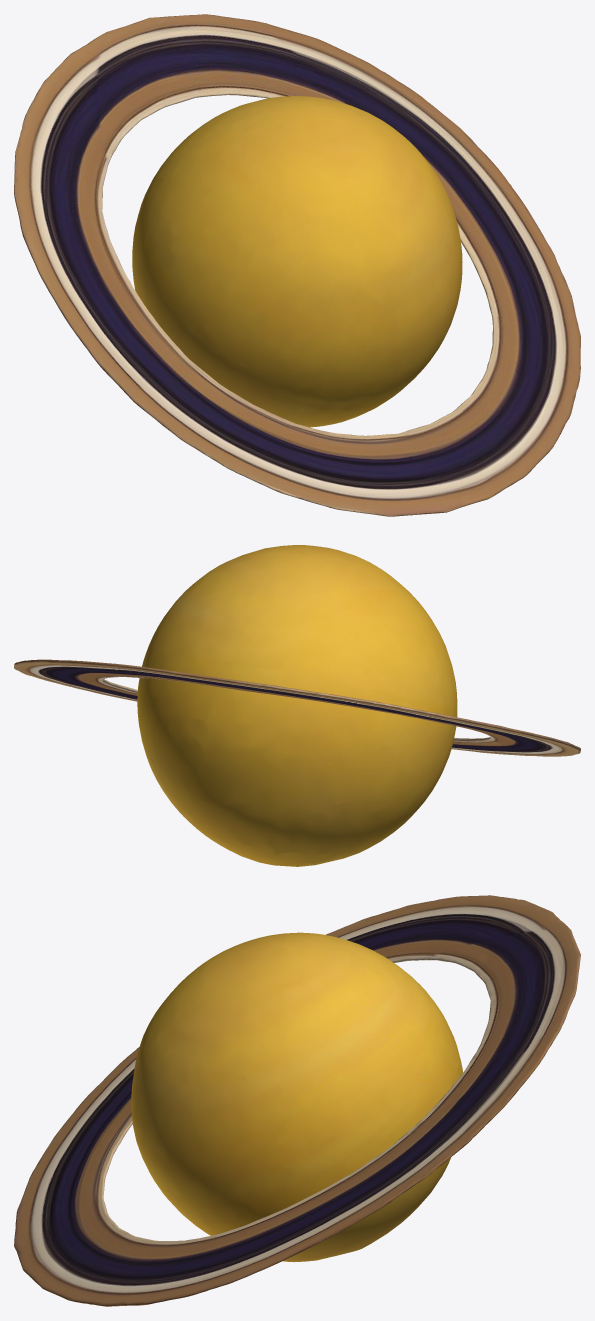
File: eclipse.glb
3 views of the same model, one above another, from view 1: azimuth 30°, elevation 25°; view 2: azimuth 150°, elevation 25°; view 3: azimuth 270°, elevation 25° (orthographic). The views are drawn at different scales.
Parts seen in each view (by area): view 1: tripo_node_53de418d-7306-4e68-996e-8420d67645eb; view 2: tripo_node_53de418d-7306-4e68-996e-8420d67645eb; view 3: tripo_node_53de418d-7306-4e68-996e-8420d67645eb.
Boxes of the visible parts, <box> form: tripo_node_53de418d-7306-4e68-996e-8420d67645eb: <box>14,14,580,516</box>; tripo_node_53de418d-7306-4e68-996e-8420d67645eb: <box>14,545,580,866</box>; tripo_node_53de418d-7306-4e68-996e-8420d67645eb: <box>14,895,580,1306</box>.
Size of the model in its own units: 0.9994 by 0.5858 by 1.
Materials: 1 (1 with a texture image).
